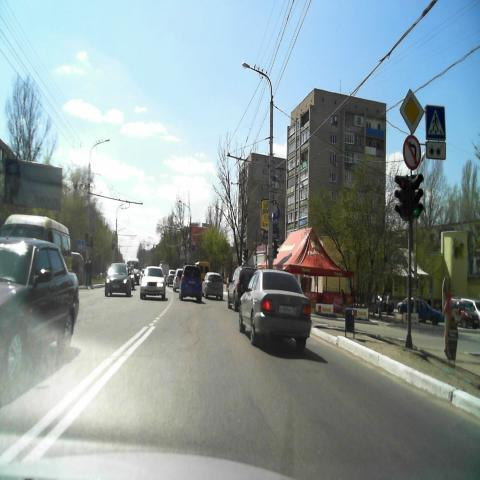3_18_2: (402, 135, 421, 170)
